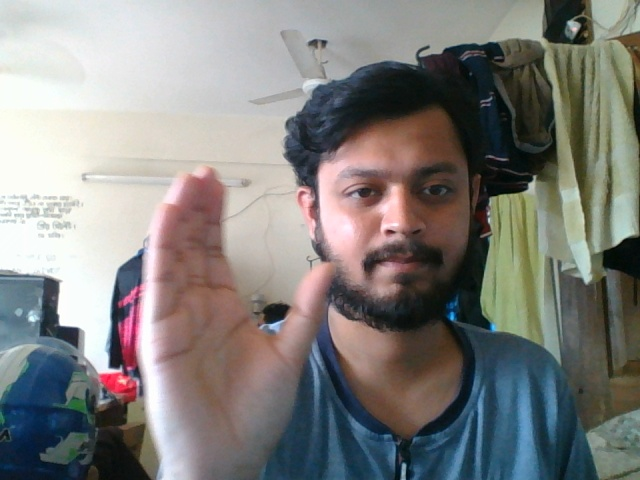o: (130, 156, 340, 480)
